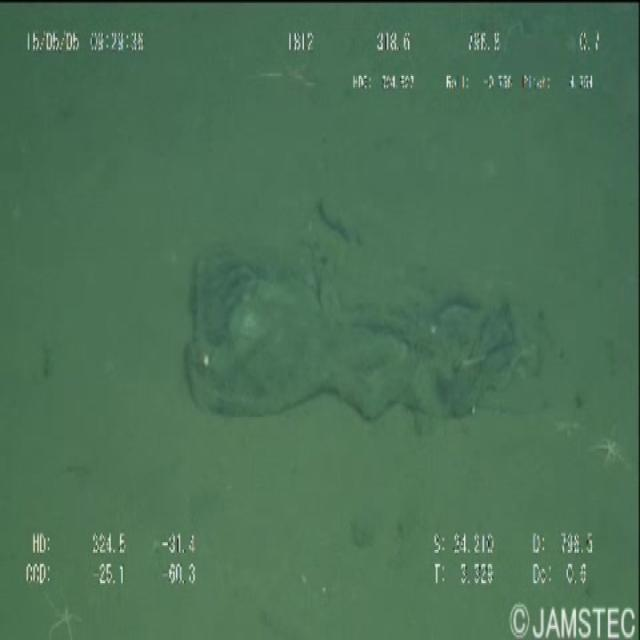Rope: (188, 197, 559, 439)
